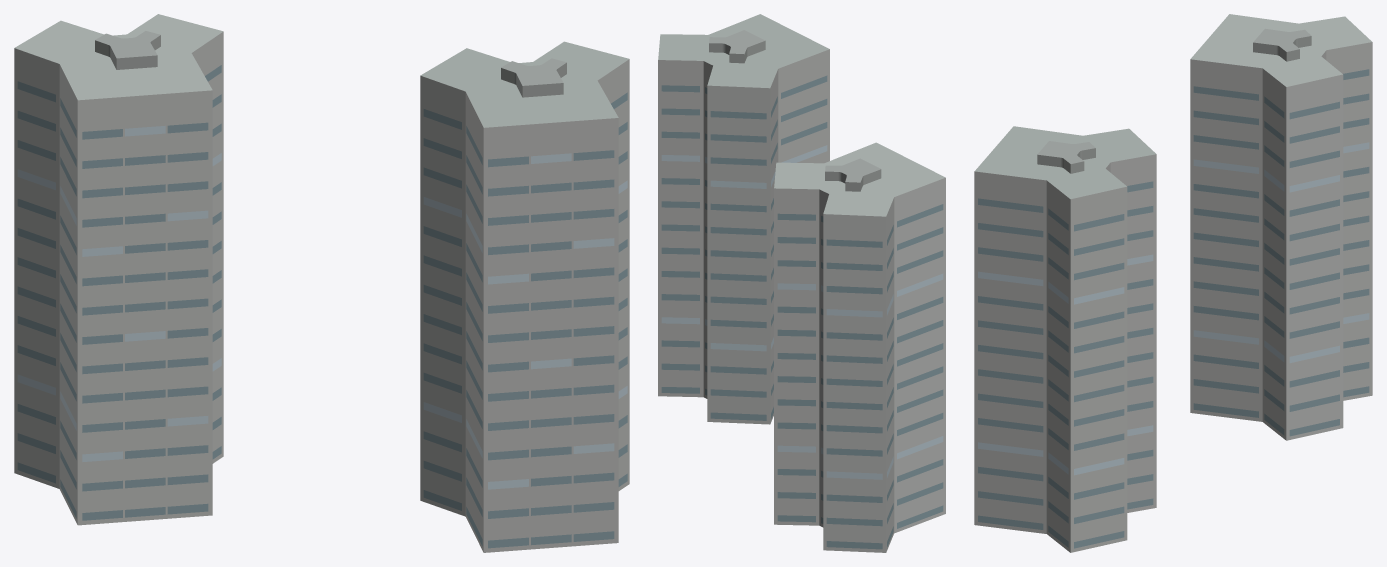
The model's file is apt-a14319305.glb.
3 renders of one model, left to right at view 1: azimuth 30°, elevation 25°; view 2: azimuth 150°, elevation 25°; view 3: azimuth 270°, elevation 25°, orthographic. The views are drawn at different scales.
Parts seen in each view (by area): view 1: apt-a14319305; view 2: apt-a14319305; view 3: apt-a14319305.
Boxes of the visible parts, x1,y1,x2,y2 form: apt-a14319305: (14, 14, 629, 552); apt-a14319305: (658, 14, 945, 552); apt-a14319305: (974, 14, 1372, 552).
Size of the model in its own units: 98.44 by 90 by 89.36.
